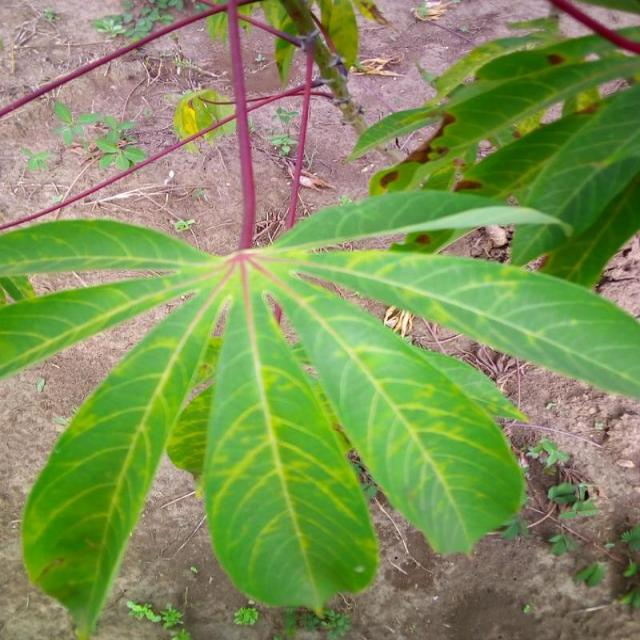cassava leaf: (0, 4, 638, 636), (264, 263, 528, 557), (20, 270, 226, 638), (201, 259, 380, 617)
